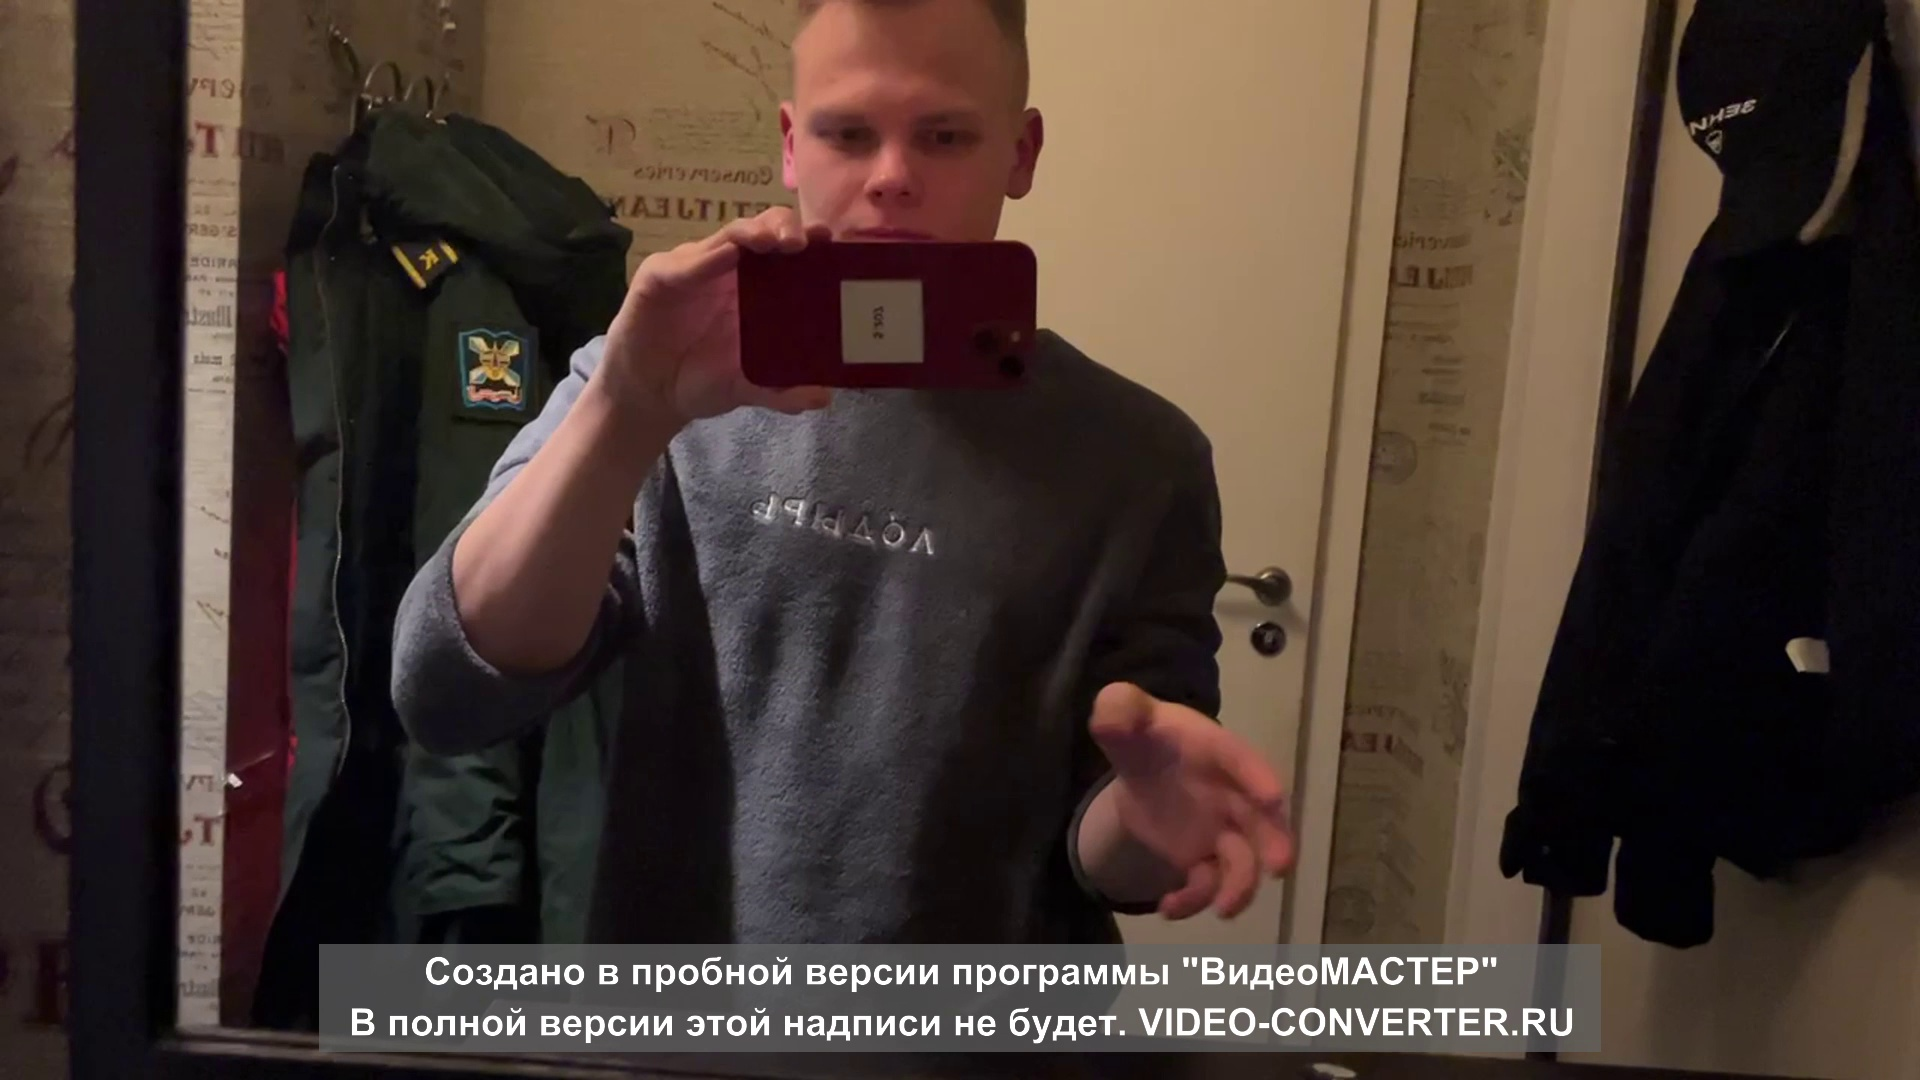Ладонь: (1088, 675, 1295, 920)
